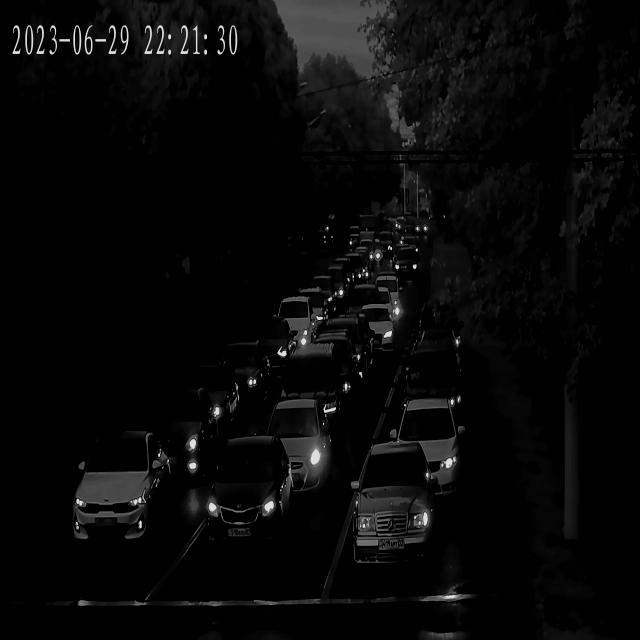Car: (69, 428, 171, 551), (196, 438, 294, 552), (349, 439, 434, 569), (380, 397, 466, 505), (250, 400, 333, 496), (142, 390, 220, 480), (268, 346, 347, 434), (398, 347, 467, 423), (172, 363, 242, 437), (296, 337, 366, 404), (210, 345, 270, 410), (311, 318, 374, 379), (244, 320, 300, 377), (340, 307, 394, 358), (362, 274, 404, 328), (272, 296, 325, 338), (301, 275, 346, 312), (290, 288, 334, 320), (328, 257, 371, 287), (318, 263, 352, 297), (391, 252, 420, 281), (372, 232, 399, 257), (352, 242, 380, 264), (400, 235, 420, 253), (346, 231, 365, 248), (414, 220, 428, 234)
